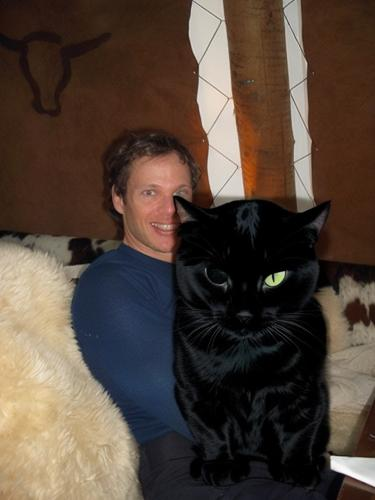cat: (171, 196, 330, 486)
person: (71, 129, 331, 499)
person/hand: (256, 340, 309, 398), (244, 265, 273, 317)
person/head: (111, 130, 199, 252)
